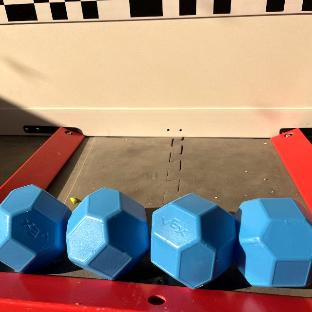V5_BLUE: (151, 194, 235, 288), (66, 189, 148, 279), (234, 198, 312, 286), (0, 185, 68, 272)
pieces: (150, 191, 312, 290)
